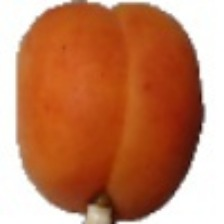apricot: (19, 31, 200, 221)
